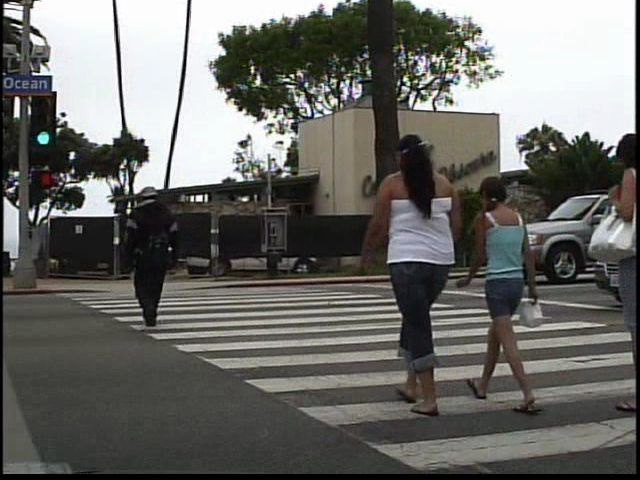person: (363, 125, 475, 422), (476, 166, 549, 423), (118, 177, 184, 337)
